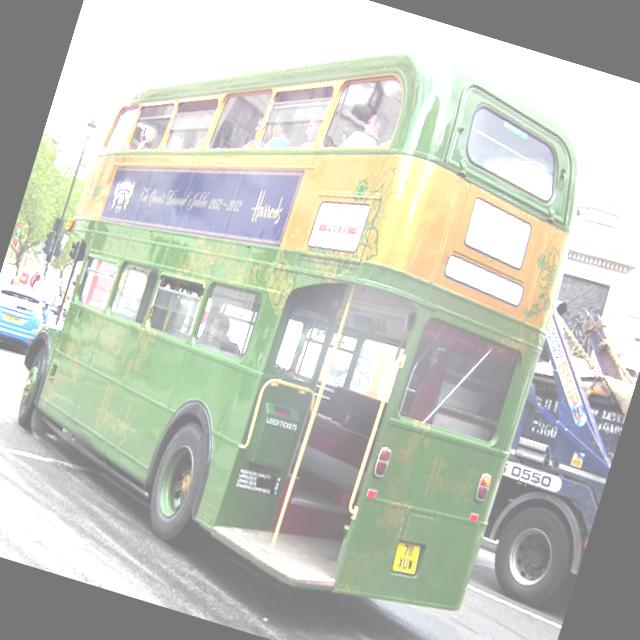Vehicle: (0, 0, 615, 638), (467, 300, 640, 618), (0, 280, 51, 358), (10, 264, 69, 316), (0, 261, 15, 330)
